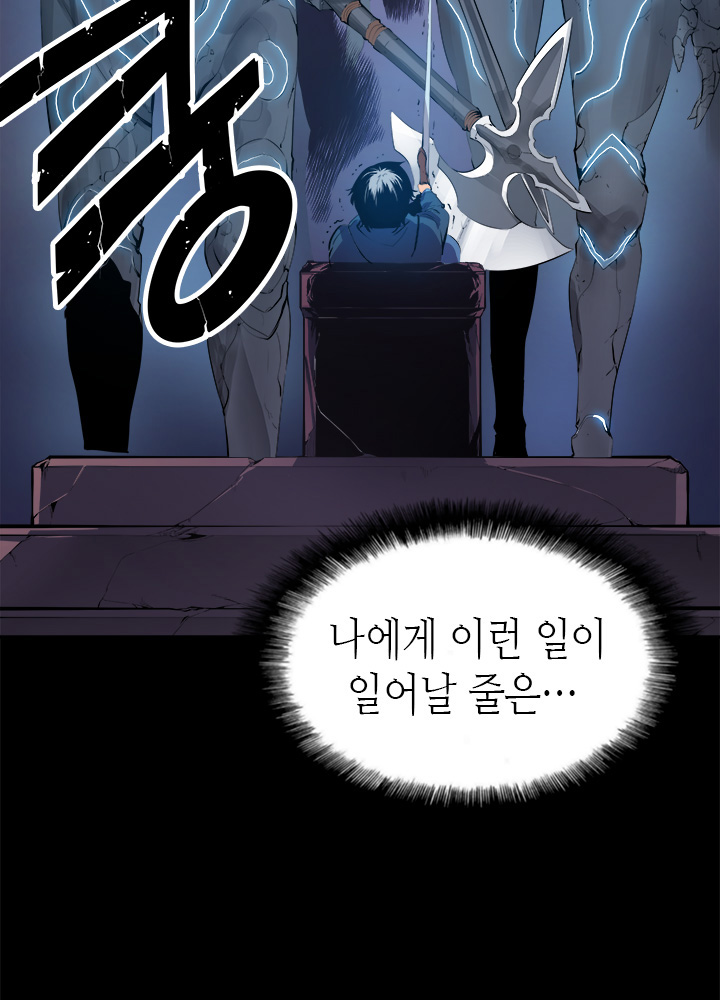dialog box: (213, 480, 702, 834)
text: (306, 587, 620, 746)
